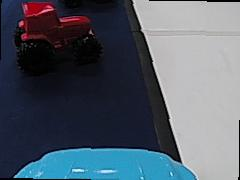Tracktor: (11, 0, 102, 71)
